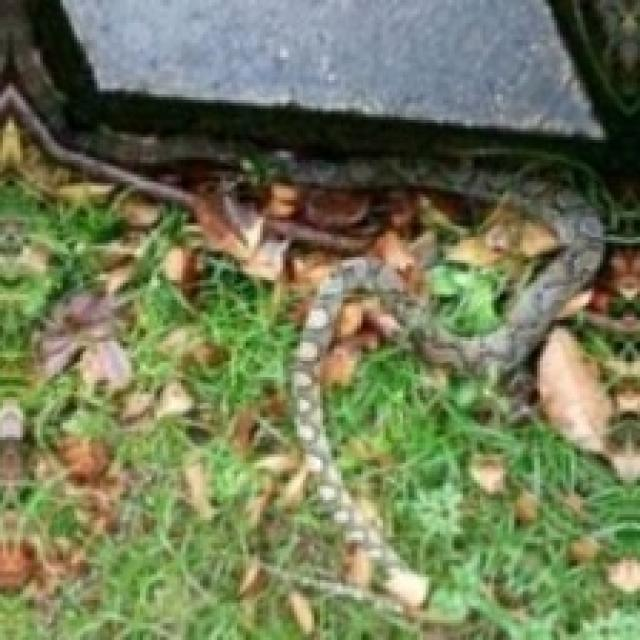reticulated python: (0, 0, 605, 611)
